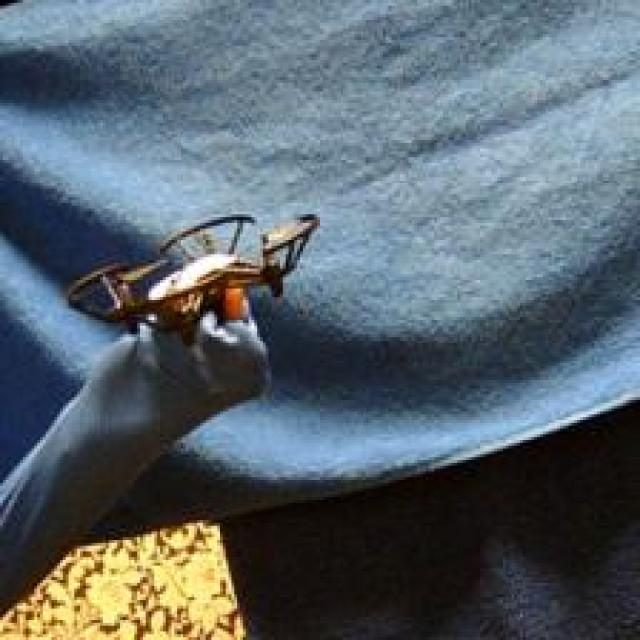drone: (62, 206, 327, 323)
